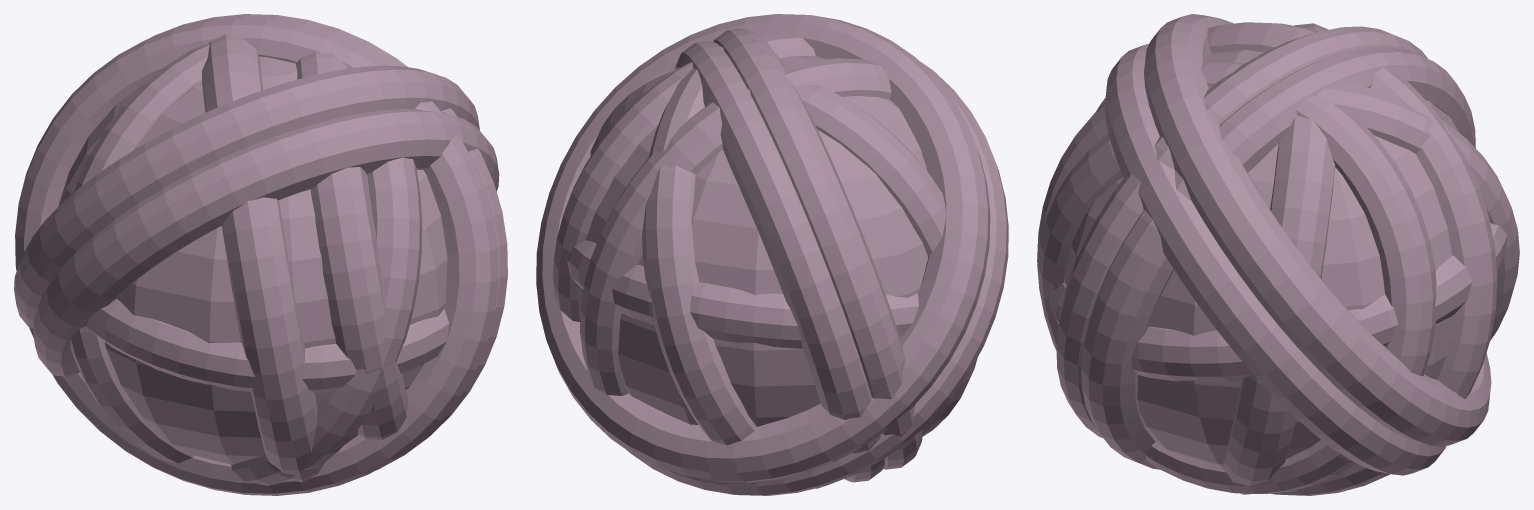
Rendered from Ball of Yarn_3DModel_3.fbx.
3 renders of one model, left to right at view 1: azimuth 30°, elevation 25°; view 2: azimuth 150°, elevation 25°; view 3: azimuth 270°, elevation 25°, orthographic. The views are drawn at different scales.
Parts seen in each view (by area): view 1: Yarn; view 2: Yarn; view 3: Yarn.
Boxes of the visible parts, x1=… form: Yarn: x1=14, y1=14, x2=507, y2=495; Yarn: x1=536, y1=14, x2=1008, y2=495; Yarn: x1=1037, y1=14, x2=1519, y2=495.
Bounding box in the file's own units: 0.115 × 0.1088 × 0.1081.
